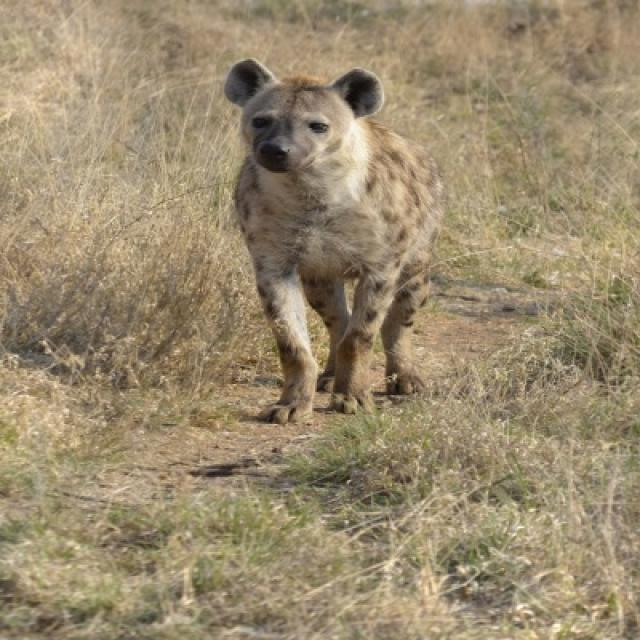hyena: (222, 59, 446, 424)
